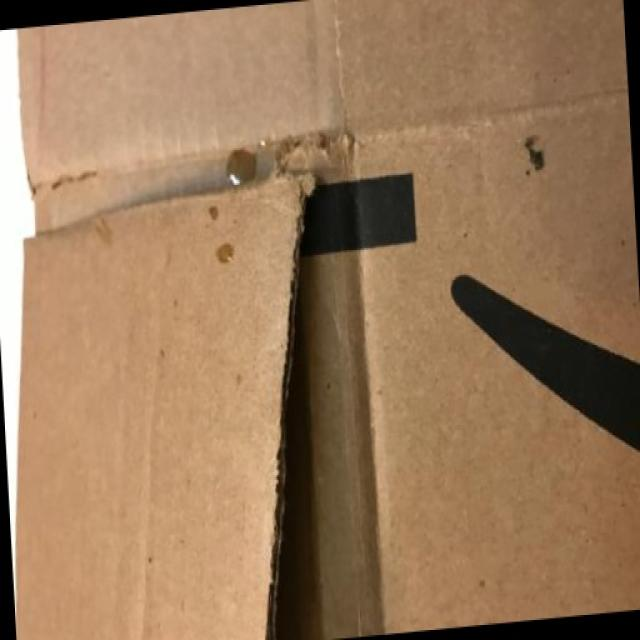carton: (107, 28, 586, 620)
